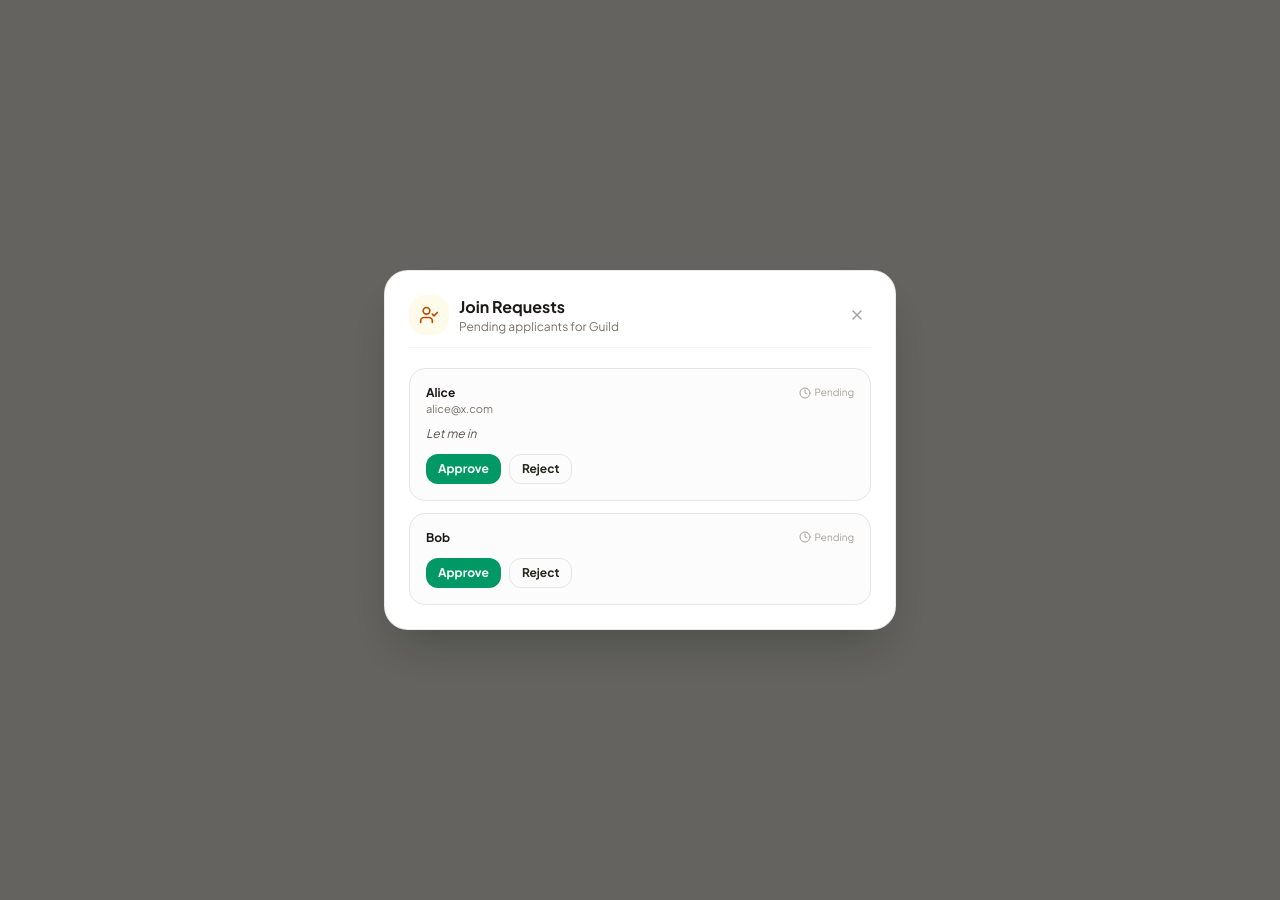
Test: CommunityRequestsModal › approves a request, removes it and notifies the parent
Click the button with test id "btn-approve-r1" at (463, 469), box [426,454,501,484]
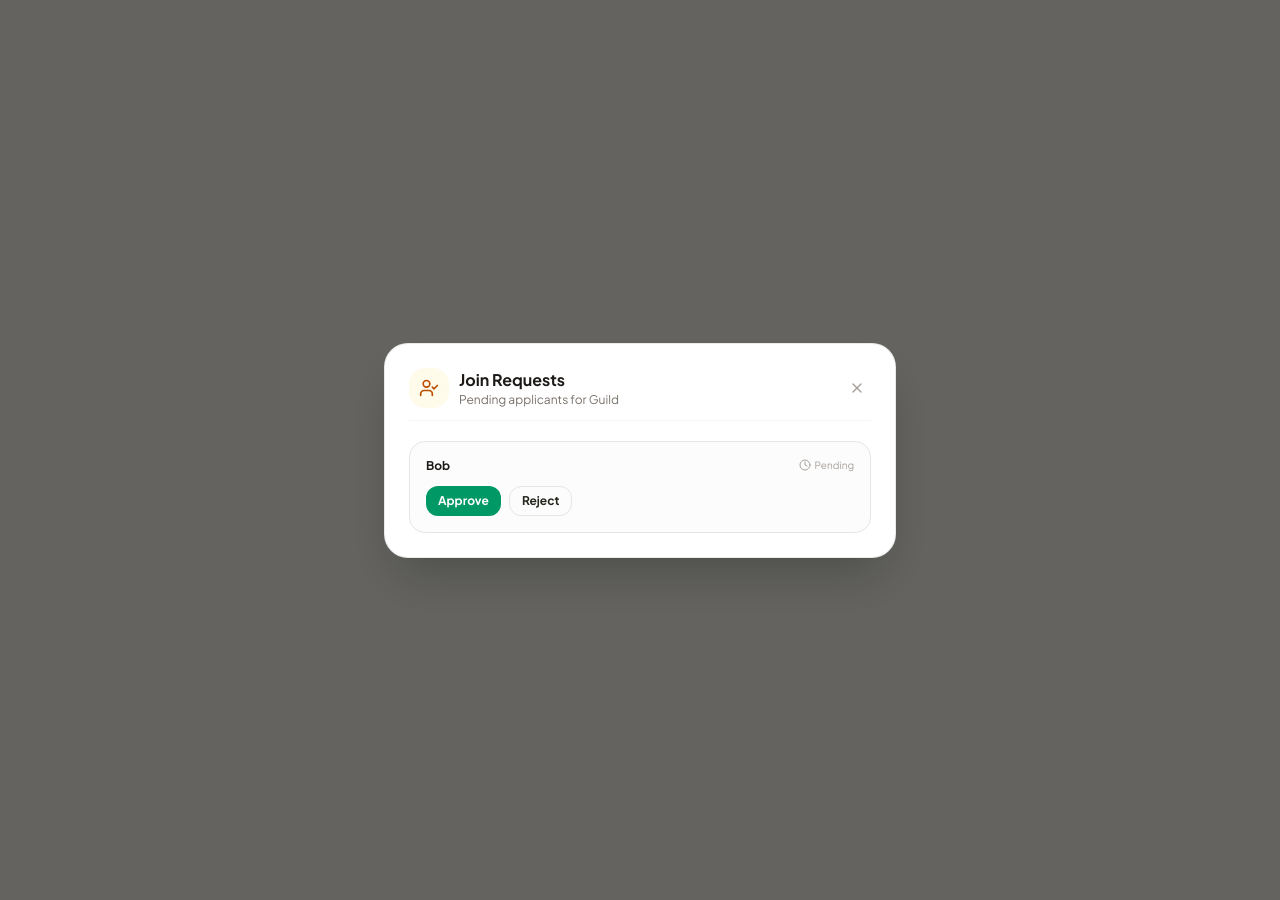
Expected: the element with test id "request-item-r2" is shown, [409,440,871,532]
Result: the element with test id "request-item-r1" is gone
